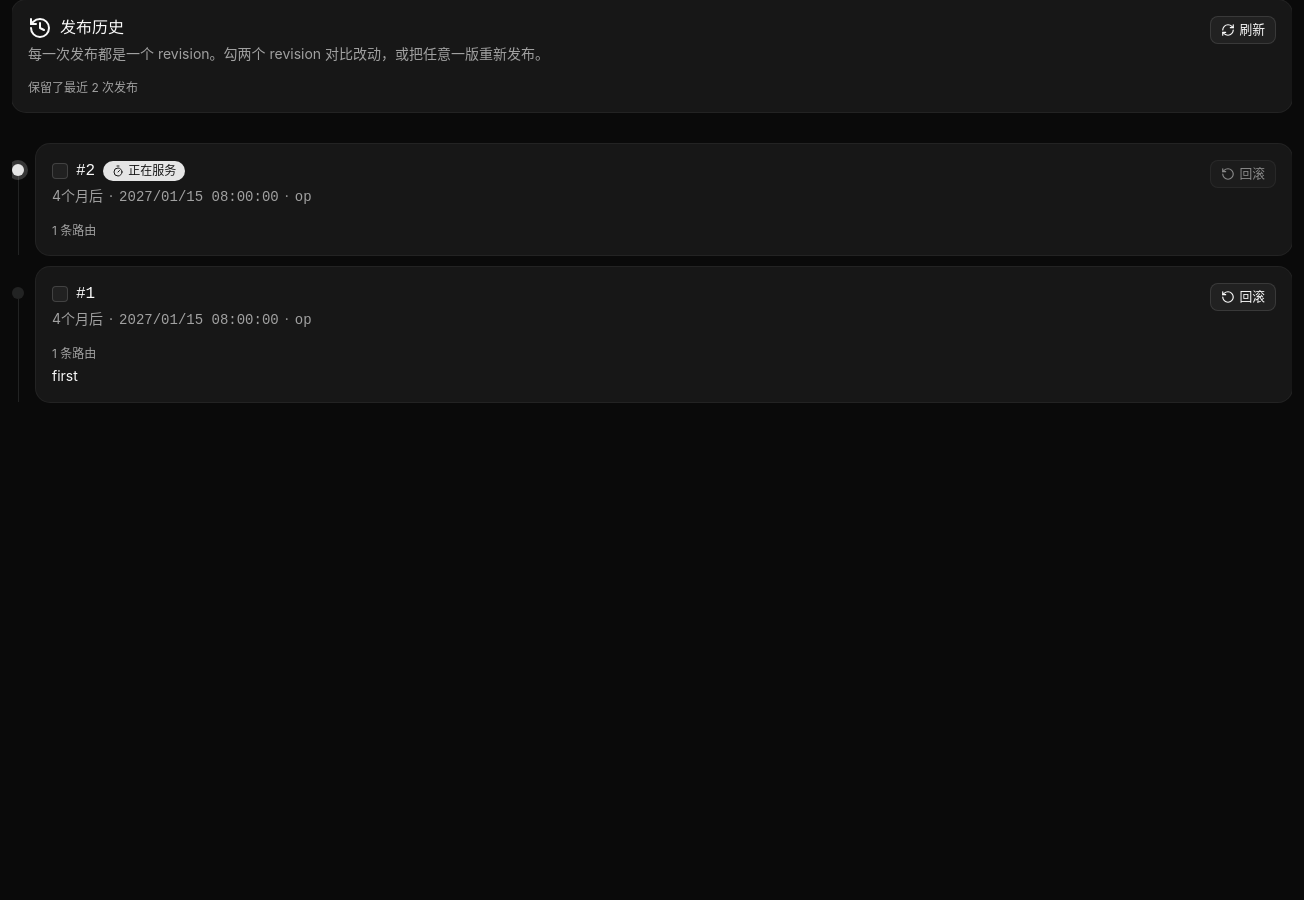
Test: HistoryView 发布历史 › 对比失败给出服务端的 detail，并且同一对能重试
This screenshot has width=1304, height=900.
Click the checkbox named "把 revision 2 选进对比" at (60, 171), box [52, 163, 68, 179]
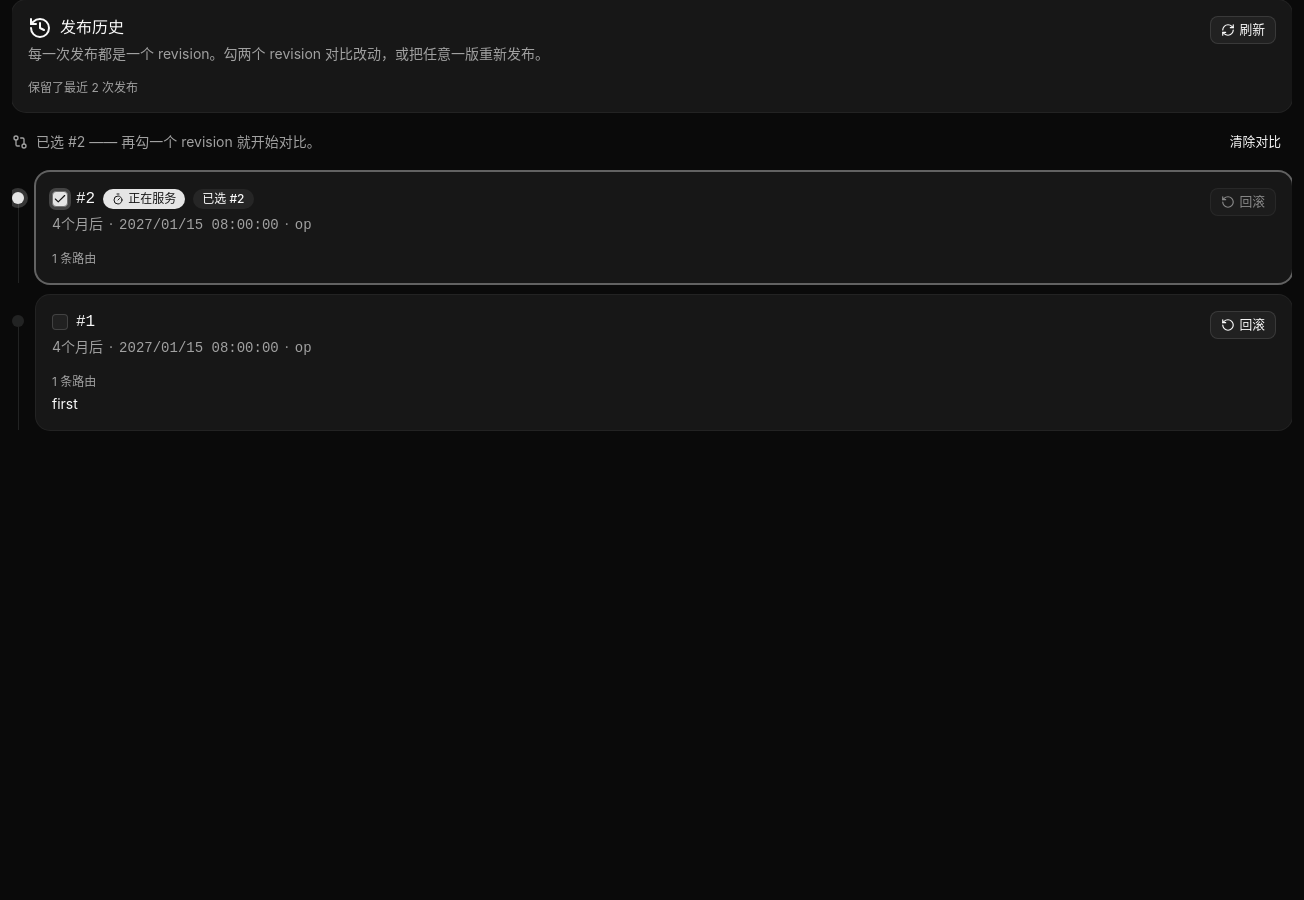
Click the checkbox named "把 revision 1 选进对比" at (60, 322), box [52, 314, 68, 330]
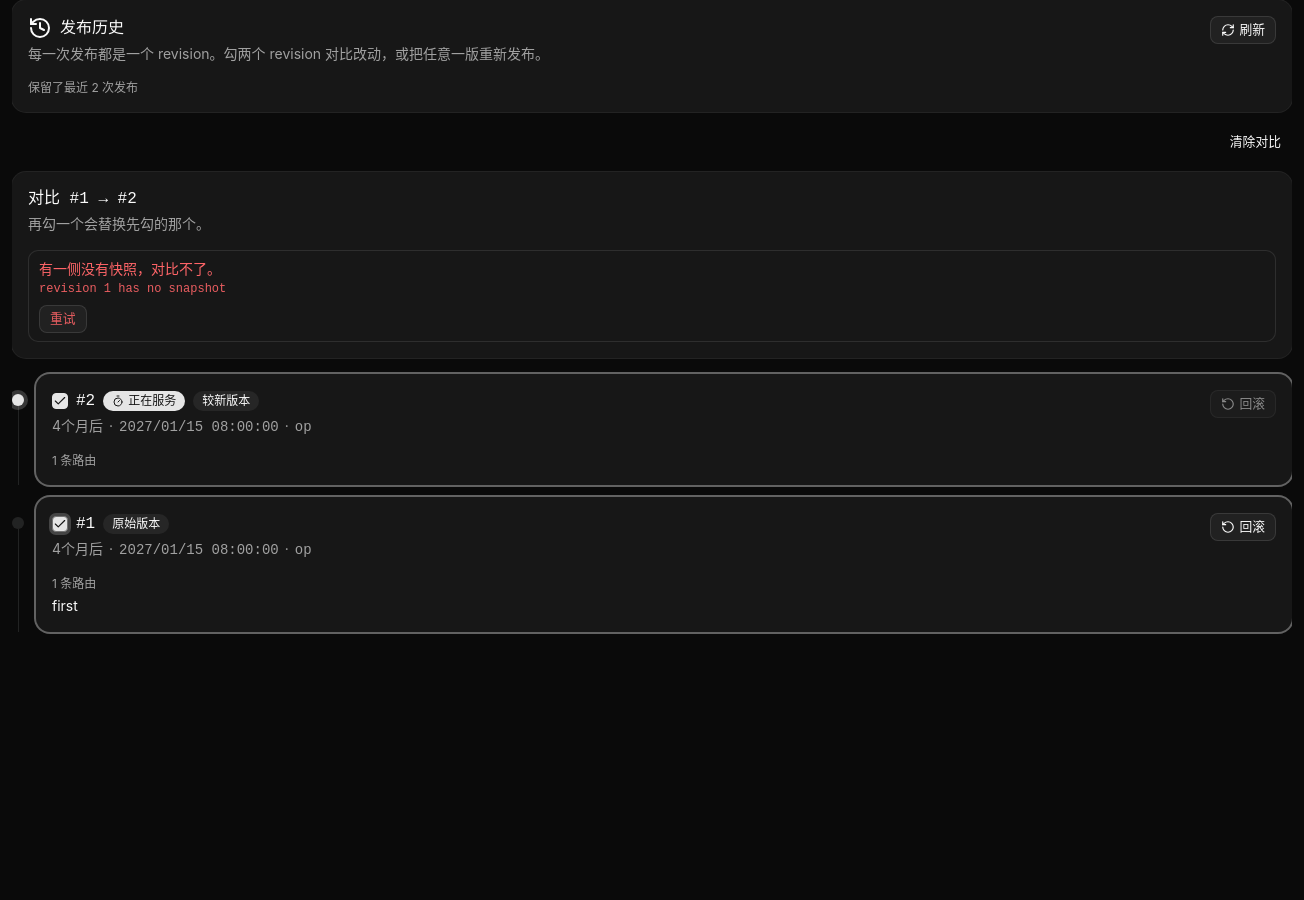
Now the text "有一侧没有快照，对比不了。" is shown, box [39, 260, 221, 277]
Now the text "revision 1 has no snapshot" is shown, box [39, 281, 226, 297]
Click the button "重试" at (63, 319), box [39, 305, 87, 333]
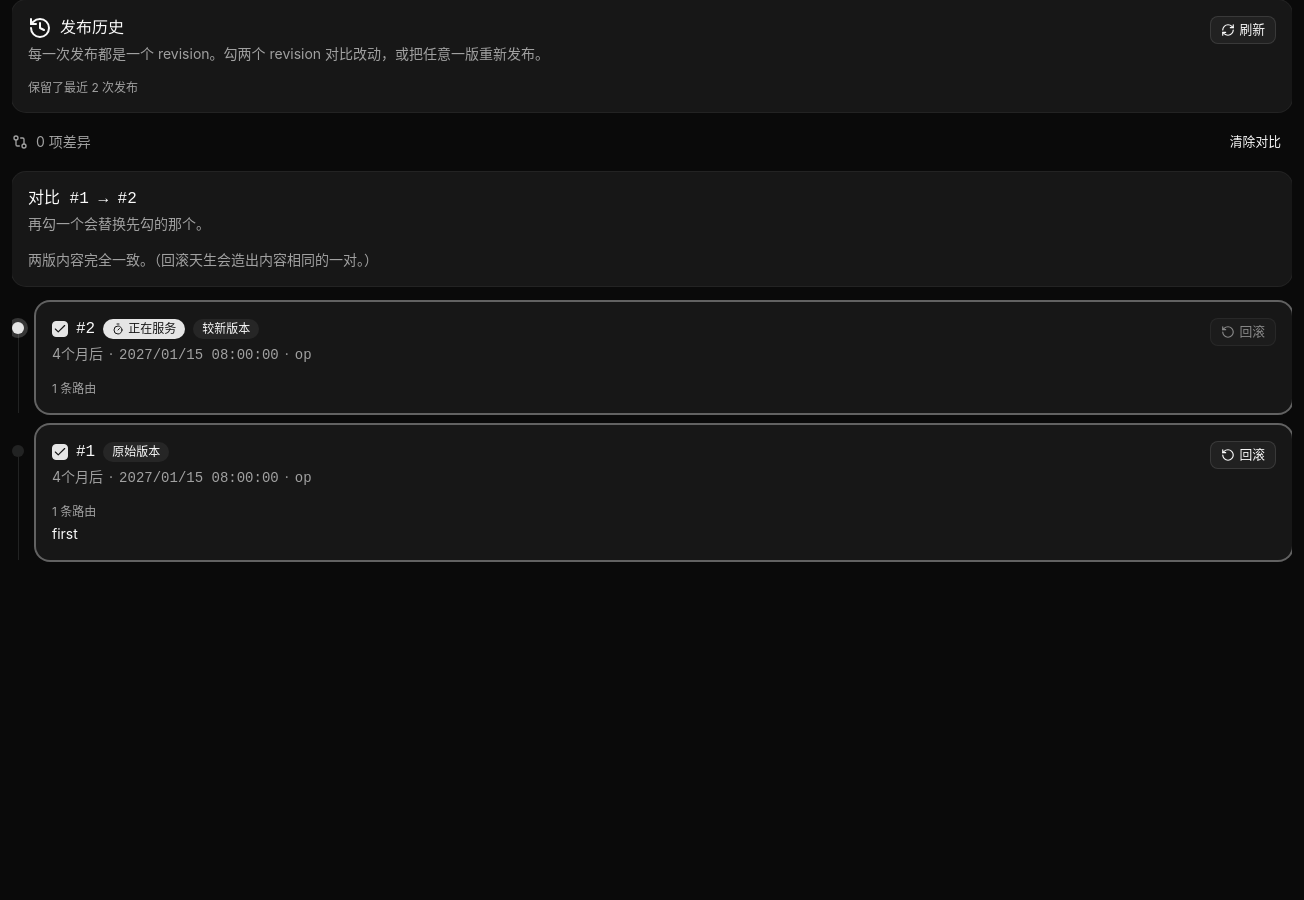
Now the text "两版内容完全一致。（回滚天生会造出内容相同的一对。）" is shown, box [28, 251, 378, 268]
